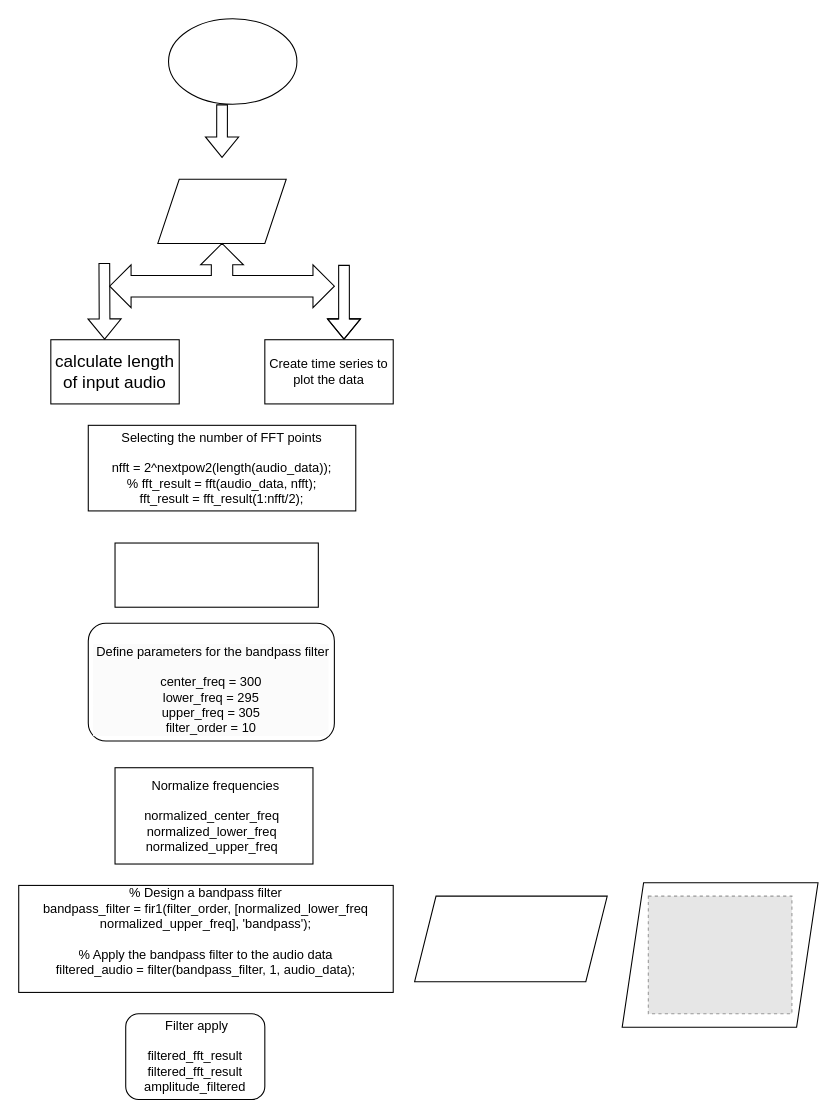
Some shapes in this 837 by 1118 pixel diagram are drawn without their labels. Grey dashed boxes stand in for pictures. The shapes that lost their labels are listed below. From the top down, each one's centre as x and y in pixels, then its label:
pixel 232 61: START
pixel 221 210: INPUT AUDIO
pixel 216 574: % Calculate the frequency axis frequencies = (0:nfft/2-1) * Fs / nfft;
pixel 510 938: Plot of filtered signal Filtered - Amplitude VS Time plot(time, filtered_audio)
